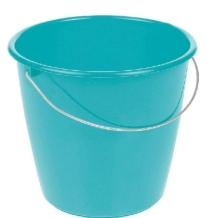SEAU: (5, 9, 196, 218)
